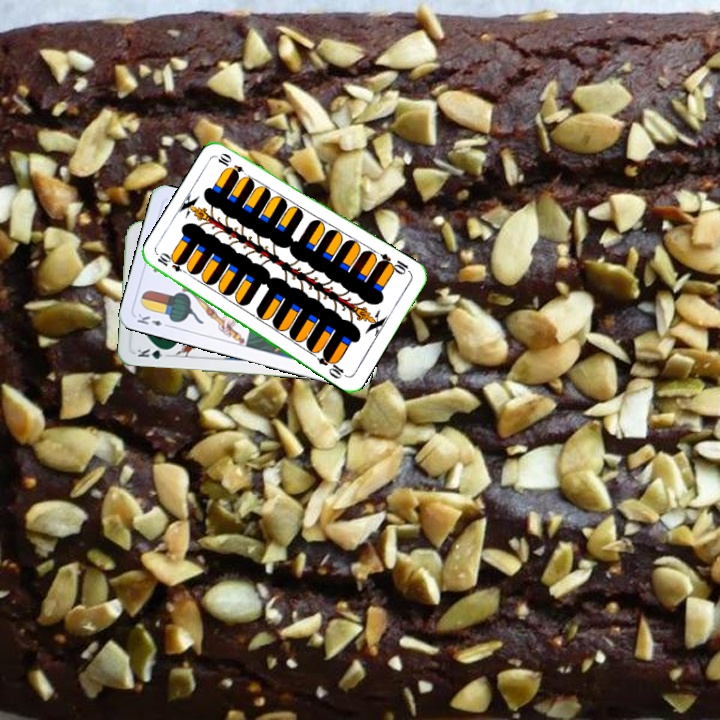E10: (374, 249, 413, 277), (153, 250, 192, 277)
EK: (133, 309, 173, 330)
GK: (133, 343, 173, 362)
